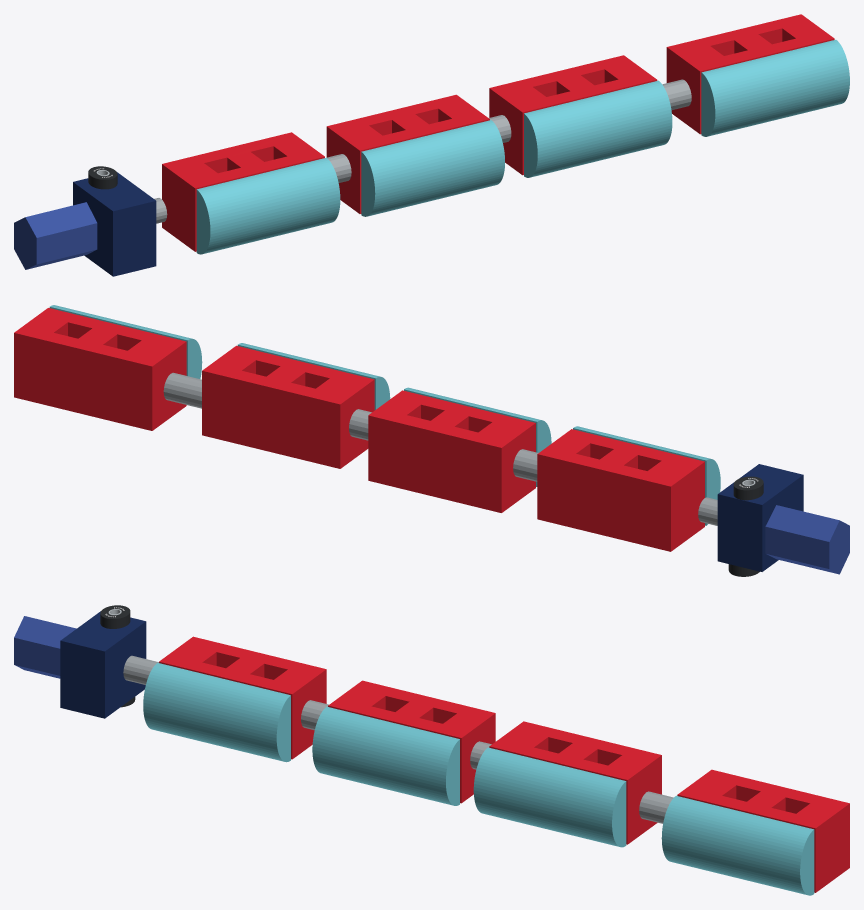
Rendered from tinker.obj.
The picture shows the model from 3 angles, top to bottom: view 1: azimuth 30°, elevation 25°; view 2: azimuth 150°, elevation 25°; view 3: azimuth 330°, elevation 25°; orthographic projection. The views are drawn at different scales.
Parts seen in each view (by area): view 1: group_0_7720667, group_0_15277357, group_0_1650274, group_0_3888547, group_0_10988977, group_0_2829873; view 2: group_0_15277357, group_0_1650274, group_0_7720667, group_0_3888547, group_0_10988977, group_0_2829873; view 3: group_0_7720667, group_0_15277357, group_0_1650274, group_0_3888547, group_0_10988977, group_0_2829873.
Boxes of the visible parts, x1,y1,x2,y2 form: group_0_7720667: [196, 39, 849, 254]; group_0_15277357: [162, 14, 834, 251]; group_0_1650274: [73, 172, 156, 276]; group_0_3888547: [14, 202, 97, 269]; group_0_10988977: [154, 79, 691, 223]; group_0_2829873: [88, 166, 117, 189]; group_0_15277357: [14, 308, 704, 551]; group_0_1650274: [717, 464, 803, 571]; group_0_7720667: [49, 305, 720, 525]; group_0_3888547: [765, 505, 849, 574]; group_0_10988977: [163, 372, 717, 525]; group_0_2829873: [728, 476, 763, 576]; group_0_7720667: [143, 662, 814, 895]; group_0_15277357: [159, 636, 849, 892]; group_0_1650274: [60, 611, 146, 718]; group_0_3888547: [14, 616, 76, 678]; group_0_10988977: [123, 655, 673, 823]; group_0_2829873: [100, 605, 135, 707].
Bounding box in the file's own units: 329 × 34 × 37.
